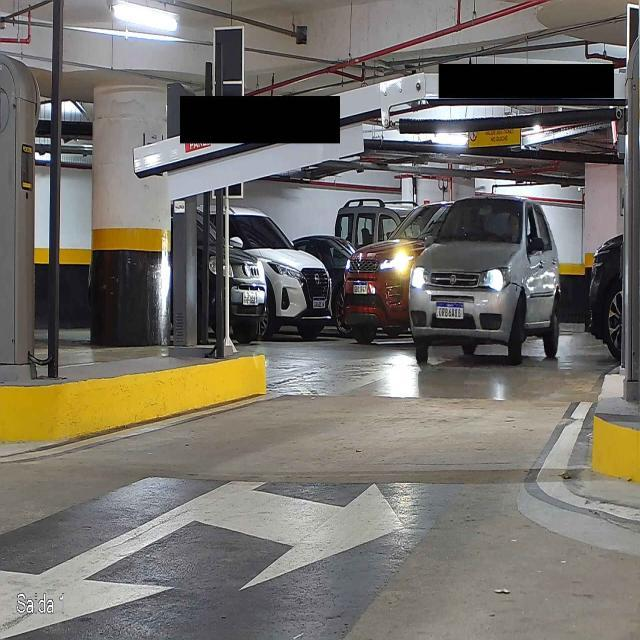mercosul_plate: (434, 301, 466, 320)
